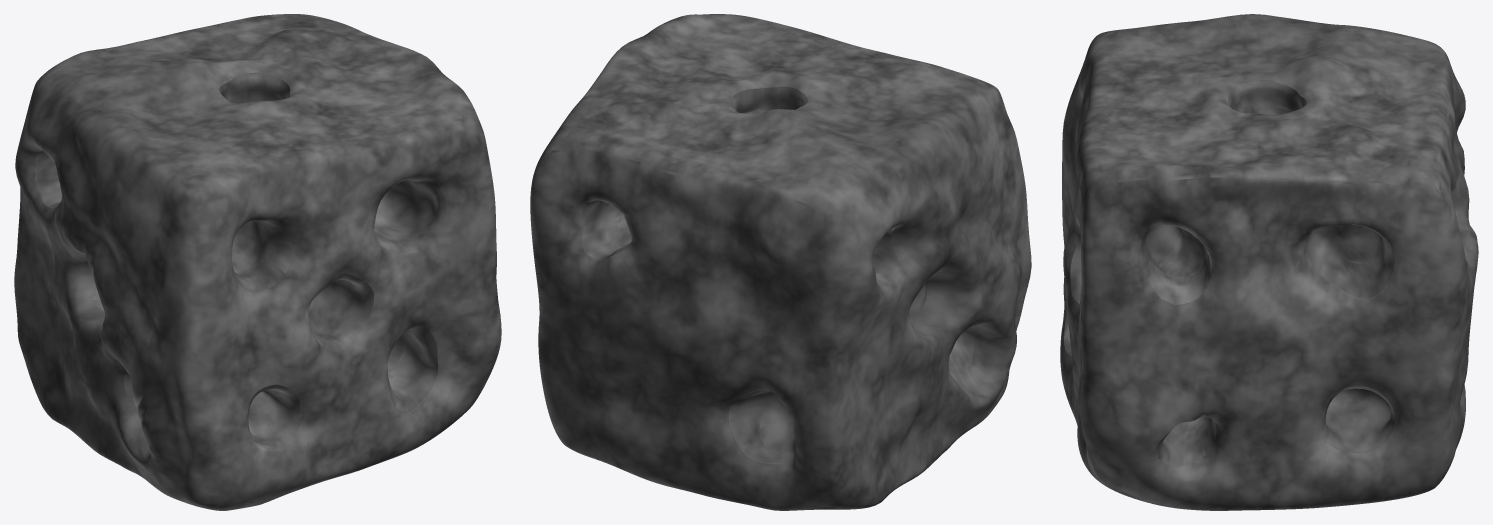
The model's file is cube_stone (1).glb.
3 views of the same model, side by side, from view 1: azimuth 30°, elevation 25°; view 2: azimuth 150°, elevation 25°; view 3: azimuth 270°, elevation 25° (orthographic). The views are drawn at different scales.
Visible parts, largest first — view 1: Retopo_Cube.stone_Baked; view 2: Retopo_Cube.stone_Baked; view 3: Retopo_Cube.stone_Baked.
Boxes of the visible parts, x1,y1,x2,y2 form: Retopo_Cube.stone_Baked: [14, 14, 501, 510]; Retopo_Cube.stone_Baked: [530, 14, 1031, 510]; Retopo_Cube.stone_Baked: [1060, 14, 1478, 510].
Bounding box in the file's own units: 2.37 × 2.27 × 2.25.
1 material, 1 textured.
